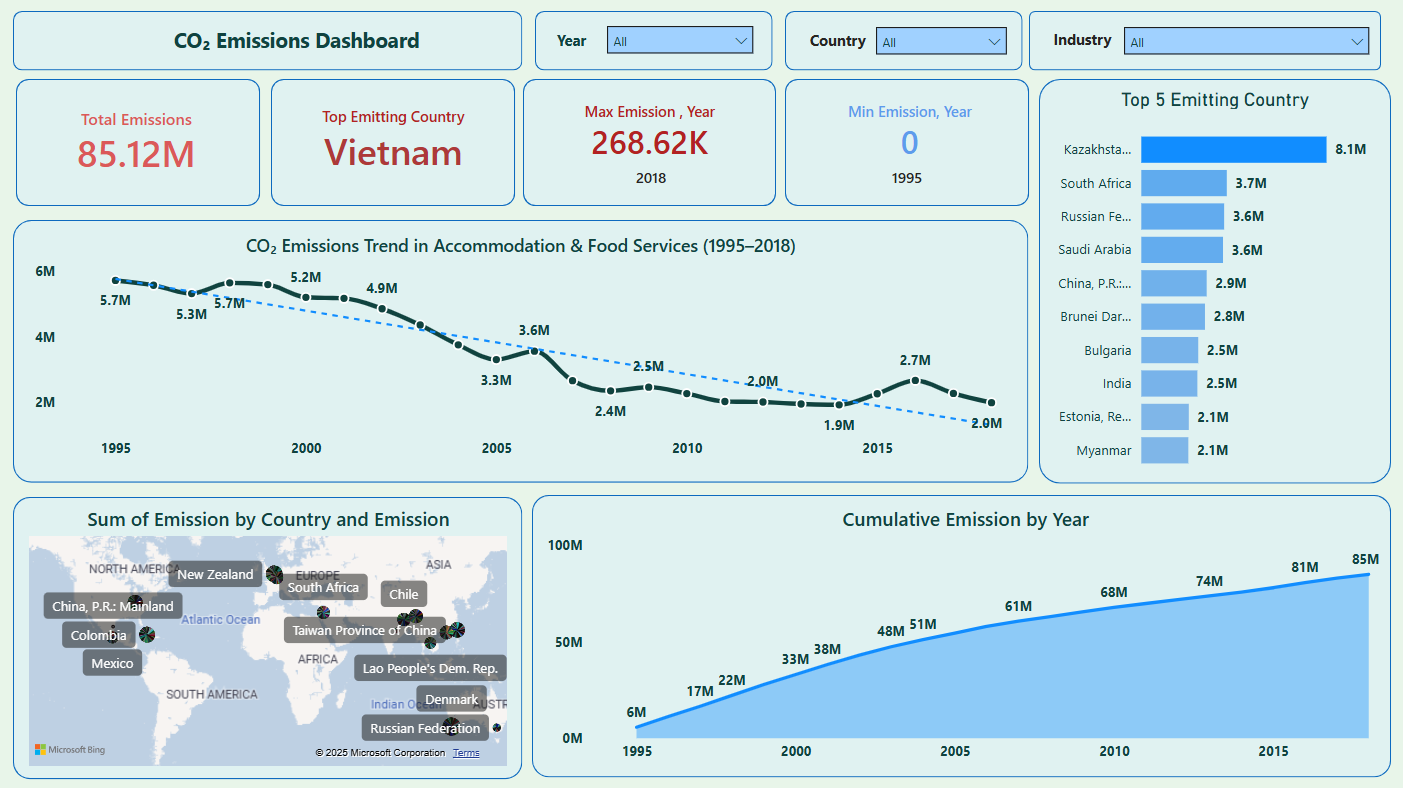

What the dashboard file says about the page in this screenshot:
{"tool":"powerbi","page":{"name":"Home","canvas":[1280,720],"ordinal":0},"visuals":[{"type":"shape","box":[12.2,12.2,463.3,54.4],"z":0},{"type":"shape","box":[486.7,12.2,215.6,54.4],"z":1000},{"type":"shape","box":[935.6,12.2,320,54.4],"z":2000},{"type":"shape","box":[14.4,73.3,222.2,115.6],"z":3000},{"type":"shape","box":[246.7,73.3,222.2,115.6],"z":4000},{"type":"shape","box":[475.6,73.3,230,115.6],"z":5000},{"type":"shape","box":[713.3,73.3,222.2,115.6],"z":6000},{"type":"card","title":"Total Emissions","fields":{"Values":["_Measure.Total Emissions"]},"box":[22.2,98.9,204.4,64.4],"z":7000},{"type":"card","title":"Top Emitting Country","fields":{"Values":["_Measure.Top Emitting Country"]},"box":[255.6,98.9,204.4,64.4],"z":8000},{"type":"card","fields":{"Values":["_Measure.Max Emissions Year"]},"box":[527.8,151.1,126.7,24.4],"z":9000},{"type":"card","title":"Max Emission  , Year","fields":{"Values":["_Measure.Max Emissions"]},"box":[488.9,94.4,203.3,56.7],"z":10000},{"type":"card","title":"Min Emission, Year ","fields":{"Values":["_Measure.Min Emissions"]},"box":[725.6,94.4,203.3,56.7],"z":11000},{"type":"card","fields":{"Values":["_Measure.Min Emissions Year"]},"box":[764.4,151.1,120,24.4],"z":12000},{"type":"shape","box":[12.2,202.2,923.3,238.9],"z":13000},{"type":"lineChart","title":"CO₂ Emissions Trend in Accommodation & Food Services (1995–2018)","fields":{"Category":["CO2  Emissions.Year"],"Y":["Sum(CO2  Emissions.Emission)"]},"box":[26.7,213.3,894.4,214.4],"z":14000},{"type":"shape","box":[944.4,73.3,320,367.8],"z":15000},{"type":"barChart","title":"Top 5 Emitting Country","fields":{"Category":["CO2  Emissions.Country"],"Y":["Sum(CO2  Emissions.Emission)"]},"box":[944.4,82.2,320,358.9],"z":16000},{"type":"shape","box":[483.3,452.2,781.1,256.7],"z":17000},{"type":"areaChart","fields":{"Category":["CO2  Emissions.Year"],"Y":["_Measure.Cumulative Emission"]},"box":[492.2,461.1,772.2,242.2],"z":18000},{"type":"shape","box":[12.2,453.3,463.3,256.7],"z":19000},{"type":"map","fields":{"Category":["CO2  Emissions.Country"],"Series":["CO2  Emissions.Emission"],"Size":["Sum(CO2  Emissions.Emission)"]},"box":[22.2,461.1,444.4,242.2],"z":20000},{"type":"textbox","box":[78.9,20,381.1,37.8],"z":21000},{"type":"slicer","fields":{"Values":["CO2  Emissions.Industry"]},"box":[1012.2,16.7,243.3,45.6],"z":22000},{"type":"textbox","box":[944.4,23.3,78.9,31.1],"z":23000},{"type":"shape","box":[713.3,12.2,215.6,54.4],"z":24000},{"type":"textbox","box":[492.2,24.4,55.6,31.1],"z":25000},{"type":"slicer","fields":{"Values":["CO2  Emissions.Year"]},"box":[542.2,15.6,153.3,45.6],"z":26000},{"type":"textbox","box":[725.6,24.4,72.2,31.1],"z":27000},{"type":"slicer","fields":{"Values":["CO2  Emissions.Country"]},"box":[786.7,16.7,138.9,45.6],"z":28000}]}

Visuals, with their boxes in screenshot pixels (x1, y1, x2, y2), scaled from the page's 1280x720 canvas onto the 1403x788 screenshot:
shape: 13, 13, 521, 73
shape: 533, 13, 770, 73
shape: 1026, 13, 1376, 73
shape: 16, 80, 259, 207
shape: 270, 80, 514, 207
shape: 521, 80, 773, 207
shape: 782, 80, 1025, 207
"Total Emissions" card: 24, 108, 248, 179
"Top Emitting Country" card: 280, 108, 504, 179
card - _Measure.Max Emissions Year: 579, 165, 717, 192
"Max Emission  , Year" card: 536, 103, 759, 165
"Min Emission, Year " card: 795, 103, 1018, 165
card - _Measure.Min Emissions Year: 838, 165, 969, 192
shape: 13, 221, 1025, 483
"CO₂ Emissions Trend in Accommodation & Food Services (1995–2018)" lineChart: 29, 233, 1010, 468
shape: 1035, 80, 1386, 483
"Top 5 Emitting Country" barChart: 1035, 90, 1386, 483
shape: 530, 495, 1386, 776
areaChart - CO2  Emissions.Year x _Measure.Cumulative Emission: 539, 505, 1386, 770
shape: 13, 496, 521, 777
map - CO2  Emissions.Country x CO2  Emissions.Emission: 24, 505, 511, 770
textbox: 86, 22, 504, 63
slicer - CO2  Emissions.Industry: 1109, 18, 1376, 68
textbox: 1035, 26, 1122, 60
shape: 782, 13, 1018, 73
textbox: 539, 27, 600, 61
slicer - CO2  Emissions.Year: 594, 17, 762, 67
textbox: 795, 27, 874, 61
slicer - CO2  Emissions.Country: 862, 18, 1015, 68
